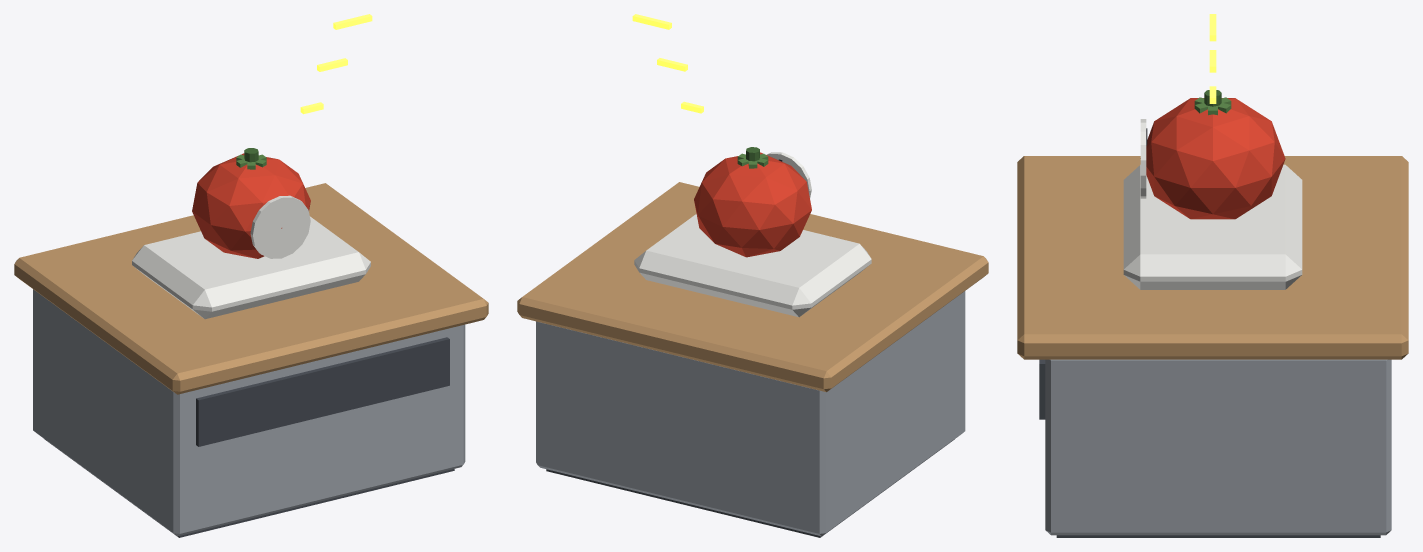
File: pomodoro_p2_3.glb
3 views of the same model, side by side, from view 1: azimuth 30°, elevation 25°; view 2: azimuth 150°, elevation 25°; view 3: azimuth 270°, elevation 25° (orthographic). The views are drawn at different scales.
Parts seen in each view (by area): view 1: pomodoro_p2_3_mesh_Desk, pomodoro_p2_3_mesh; view 2: pomodoro_p2_3_mesh_Desk, pomodoro_p2_3_mesh; view 3: pomodoro_p2_3_mesh_Desk, pomodoro_p2_3_mesh.
Part boxes in pixels (left/top/right/bottom): pomodoro_p2_3_mesh_Desk: left=14, top=183, right=488, bottom=537; pomodoro_p2_3_mesh: left=132, top=14, right=372, bottom=319; pomodoro_p2_3_mesh_Desk: left=517, top=182, right=988, bottom=537; pomodoro_p2_3_mesh: left=632, top=14, right=871, bottom=317; pomodoro_p2_3_mesh_Desk: left=1017, top=156, right=1408, bottom=537; pomodoro_p2_3_mesh: left=1123, top=14, right=1302, bottom=289.
Bounding box in the file's own units: 0.78 × 0.972 × 0.7.
